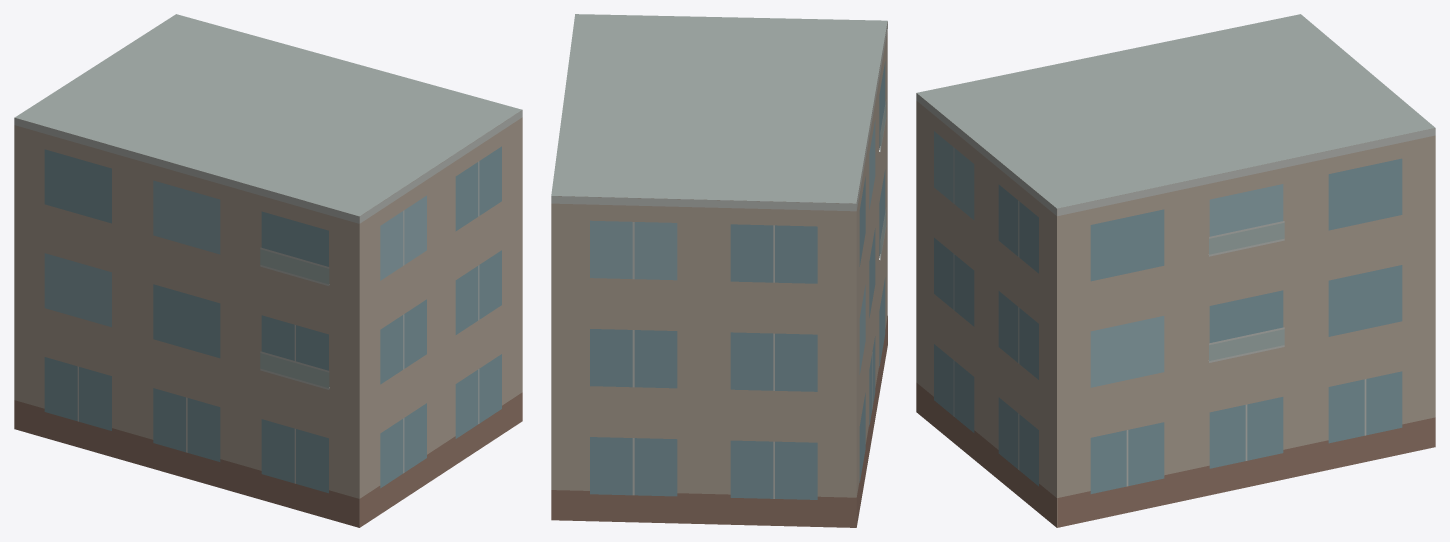
The model's file is survey-upis-32740609.glb.
The picture shows the model from 3 angles, left to right: view 1: azimuth 30°, elevation 25°; view 2: azimuth 150°, elevation 25°; view 3: azimuth 270°, elevation 25°; orthographic projection. The views are drawn at different scales.
Visible parts, largest first — view 1: survey-upis-32740609.tmp; view 2: survey-upis-32740609.tmp; view 3: survey-upis-32740609.tmp.
Boxes of the visible parts, bbox=[...] form: survey-upis-32740609.tmp: bbox=[14, 14, 522, 527]; survey-upis-32740609.tmp: bbox=[551, 14, 887, 527]; survey-upis-32740609.tmp: bbox=[916, 14, 1435, 527].
Size of the model in its own units: 13.35 by 10.2 by 15.04.
